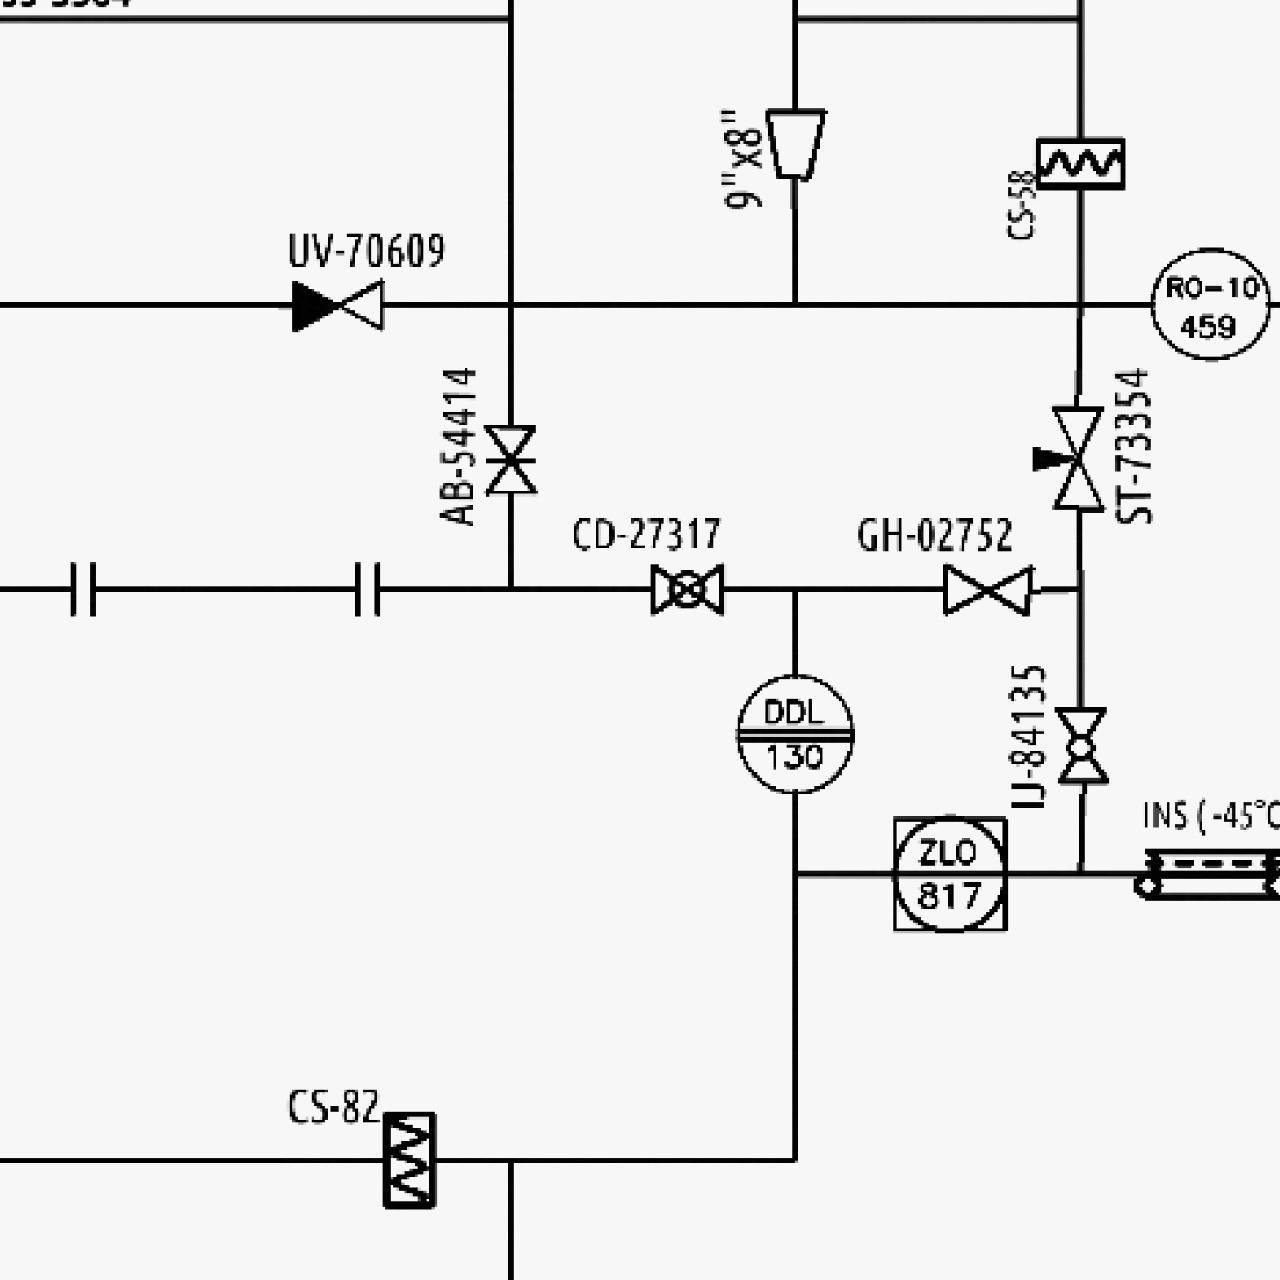Control-Panel: (1145, 238, 1275, 368), (729, 668, 859, 798)
Half closed valve: (288, 274, 387, 335)
